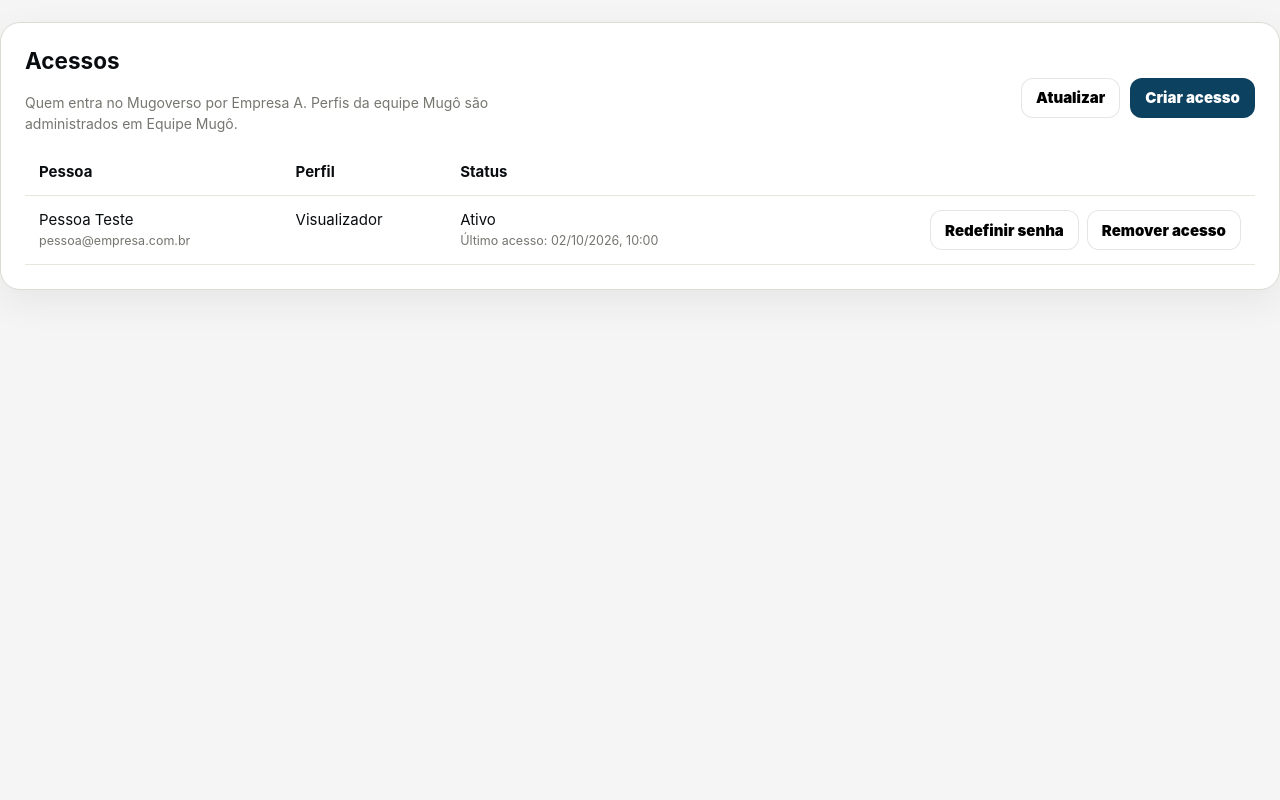
Acessos — redefinir senha e remover › remover pede confirmação e explica que a conta continua
This screenshot has width=1280, height=800.
Click the button "Remover acesso". click: point(1164, 230)
box: [1087,210,1241,250]
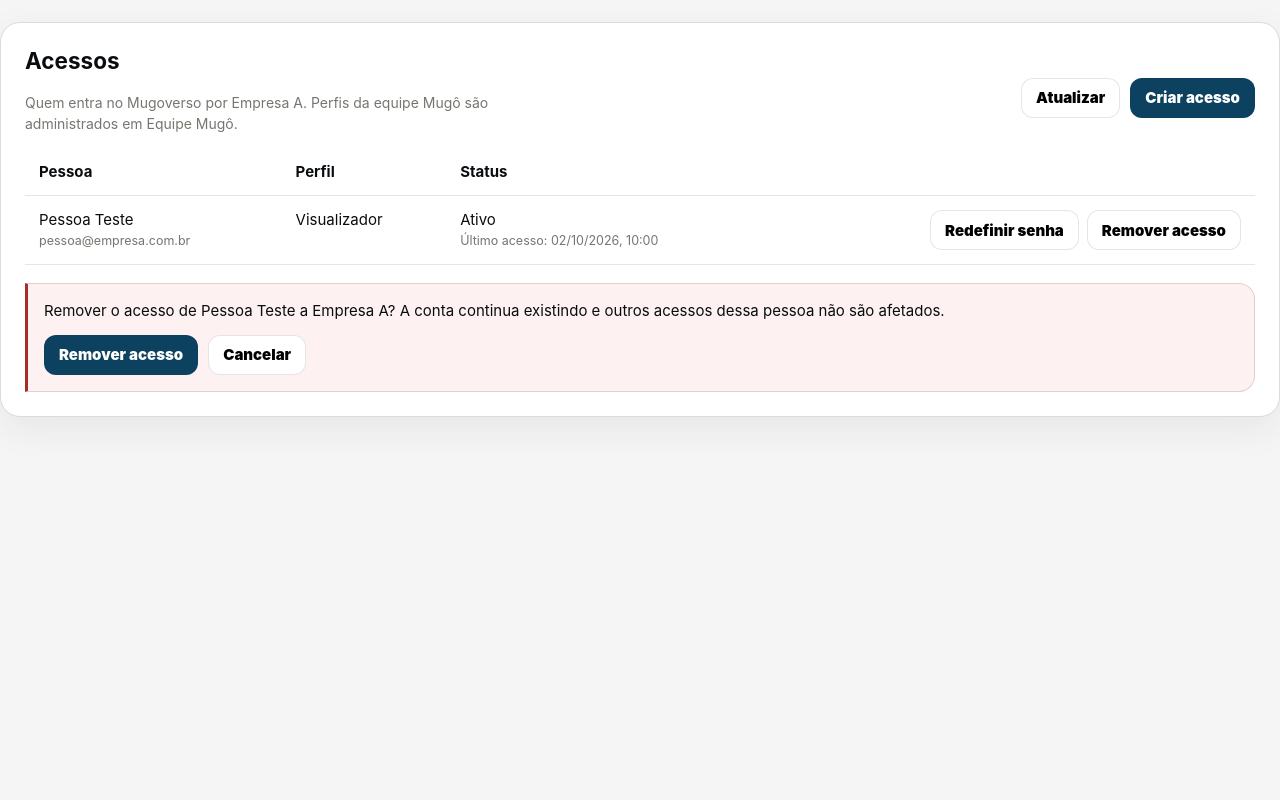
Result: the dialog with test id "client-access-remove" shows "A conta continua" at [388,301,945,320]
Click the button "Remover acesso" below "Remover o acesso de". click: point(121, 354)
box: [44,334,198,374]
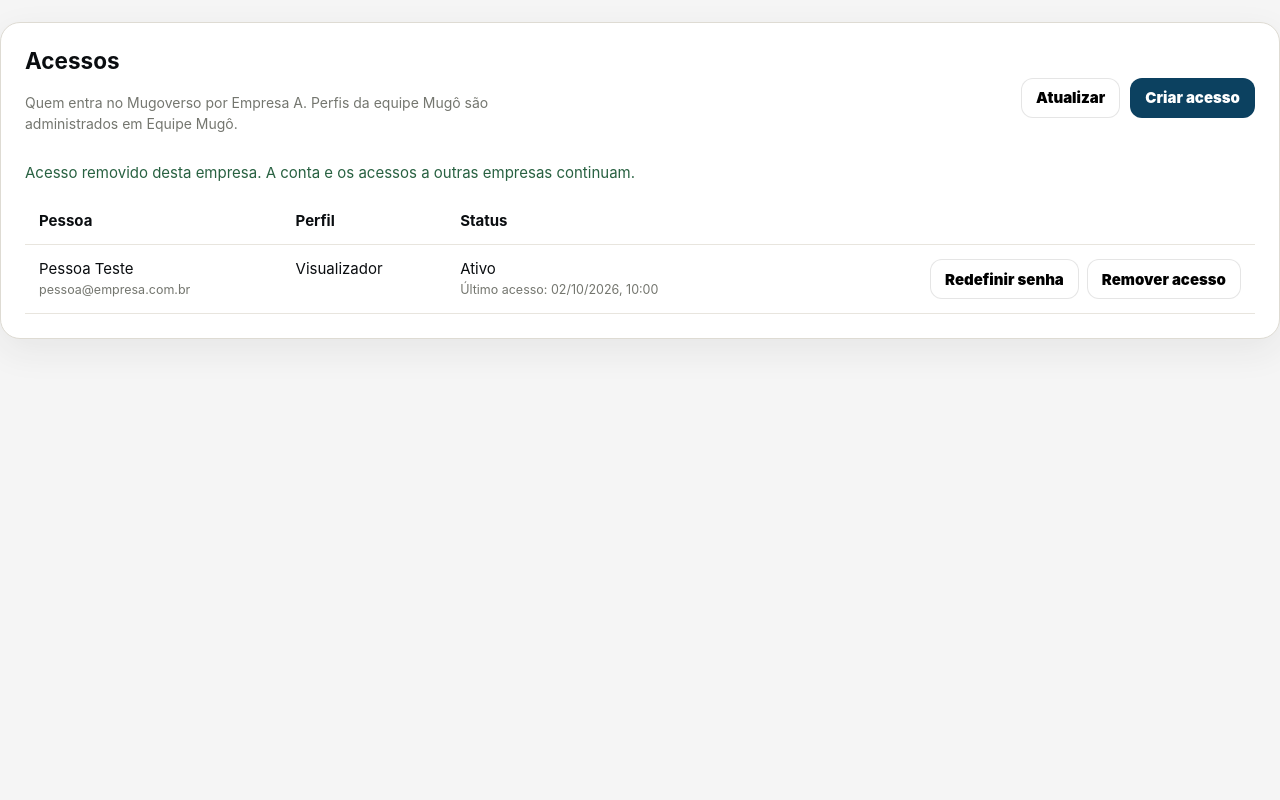
Result: the text "acessos a outras empresas continuam" is shown at [25,163,635,182]
